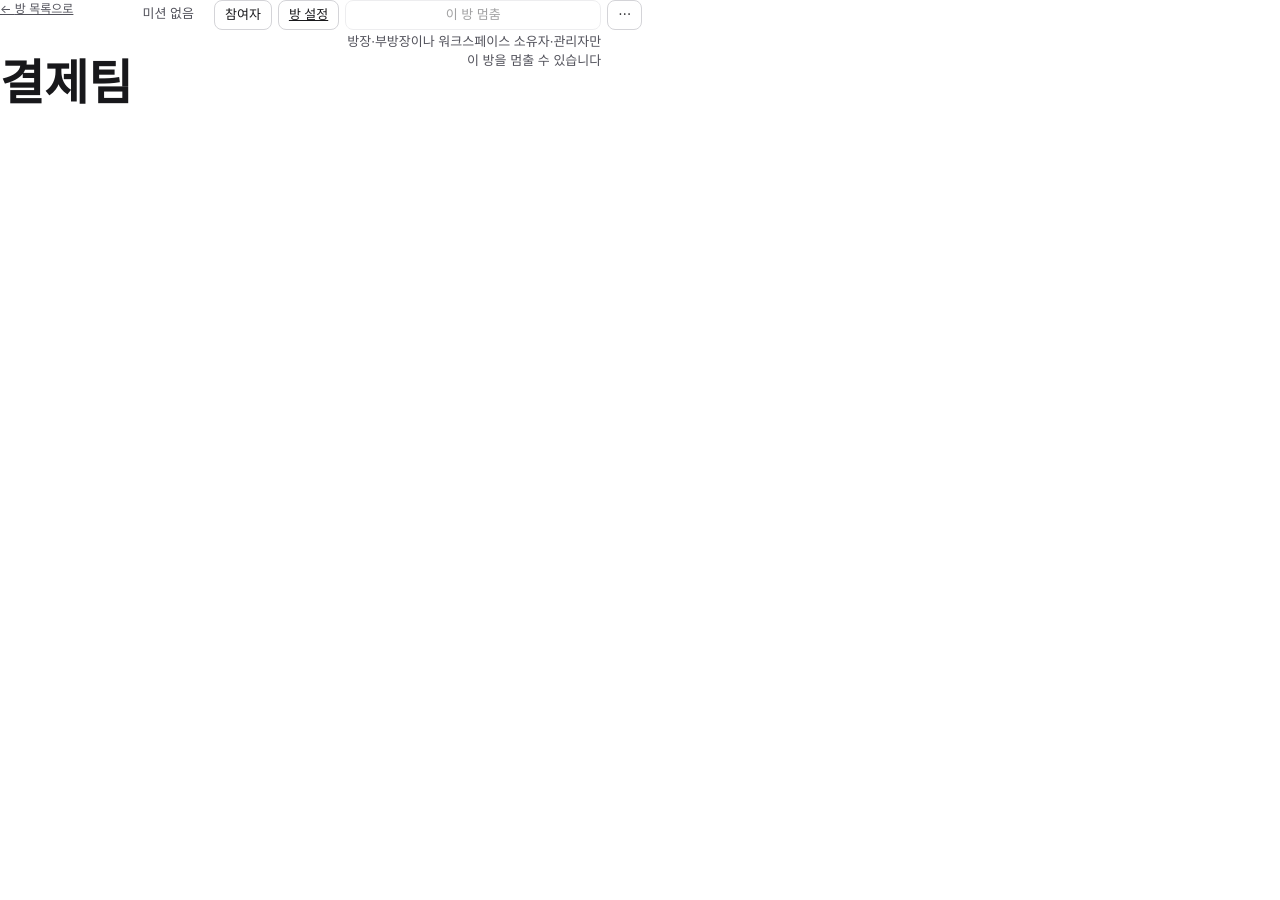
여기까지 정리 — 범위 셋(최근 7일 · 최근 30일 · 직접 고르기) › 직접 고르기를 고르면 범위가 없는 동안 「정리」가 비활성 + 사유, 「타임라인에서 고르기」는 다이얼로그를 닫고 집기 모드로
The width and height of the screenshot is (1280, 900).
Click the button with test id "room-more": (625, 15) [607, 0, 642, 30]
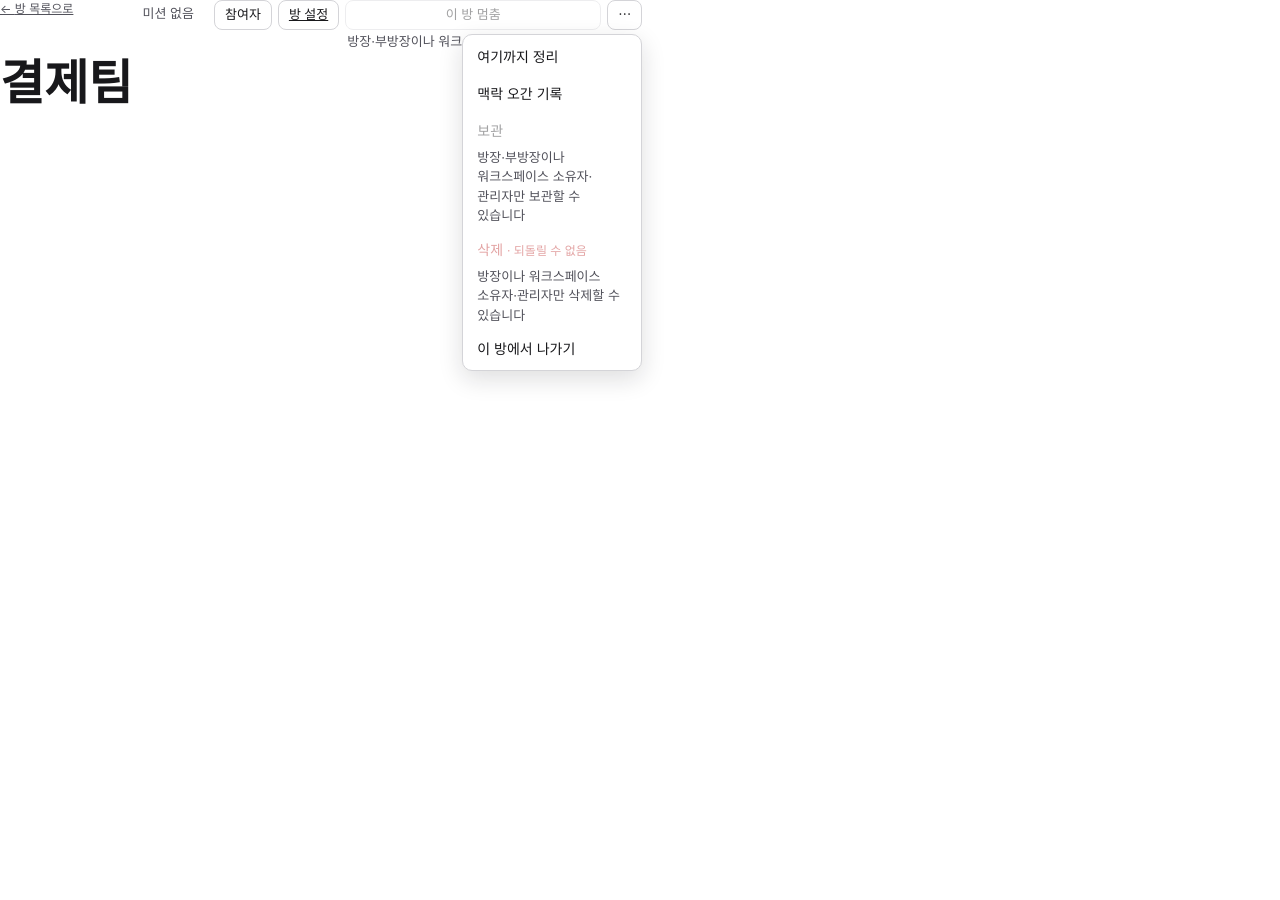
Click the menu item with test id "room-menu-summarize": (552, 56) [467, 38, 637, 74]
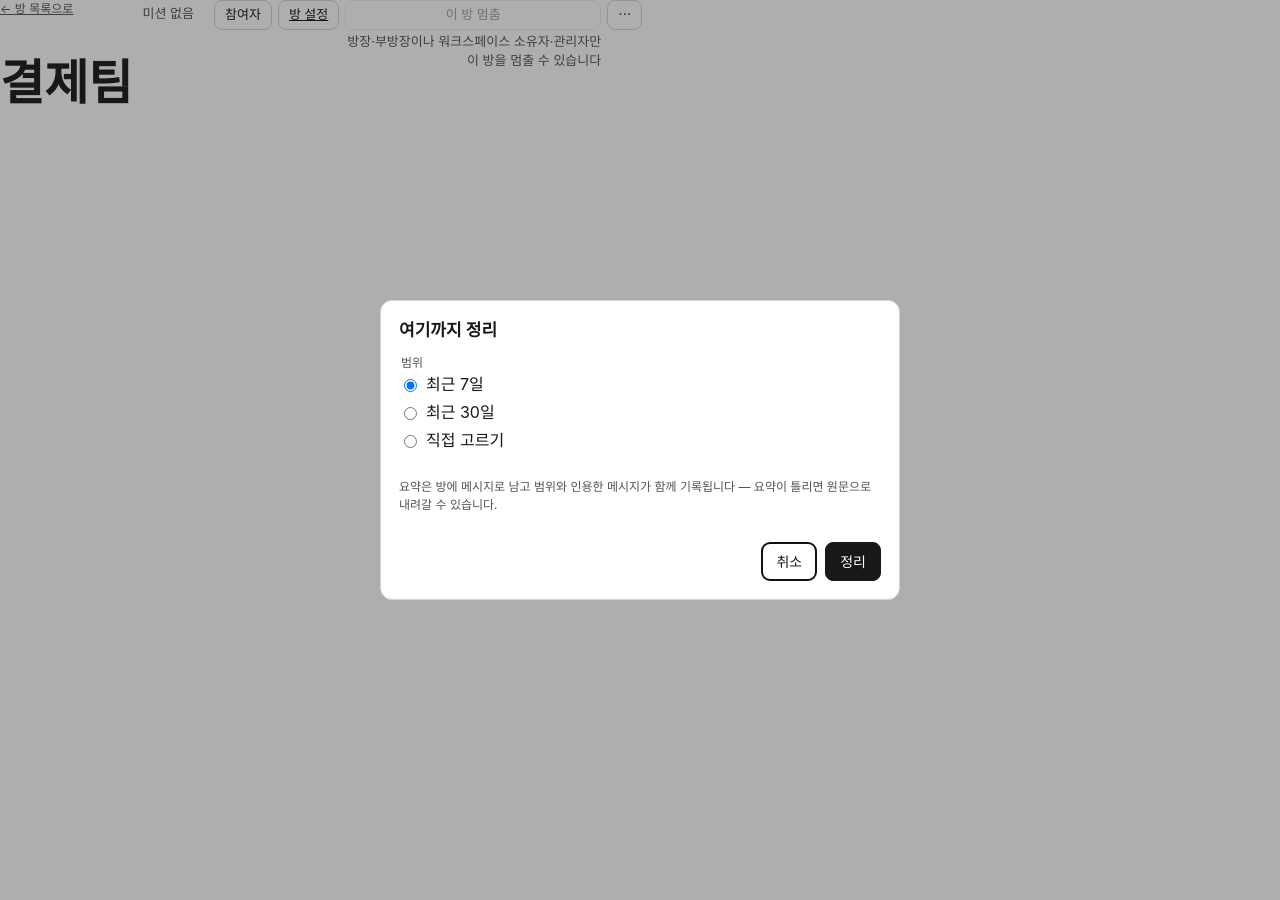
Click the radio button with test id "summarize-pick": (410, 442) [404, 435, 417, 448]
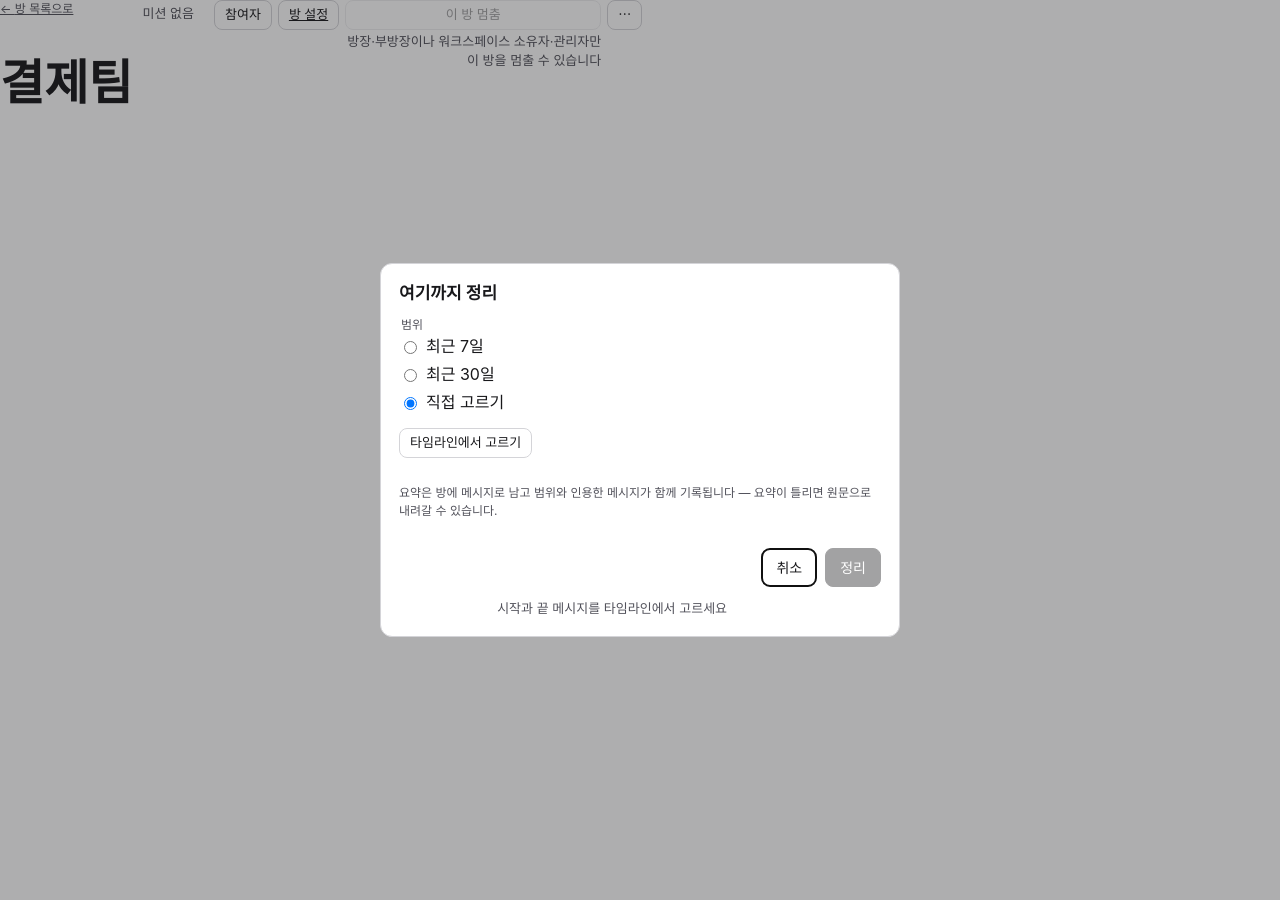
Expected: the button with test id "summarize-dialog-confirm" is disabled, [825, 548, 881, 587]
Expected: the text "시작과 끝 메시지를 타임라인에서 고르세요" is shown, [497, 600, 727, 616]
Click the button with test id "summarize-pick-start": (466, 443) [399, 428, 532, 458]
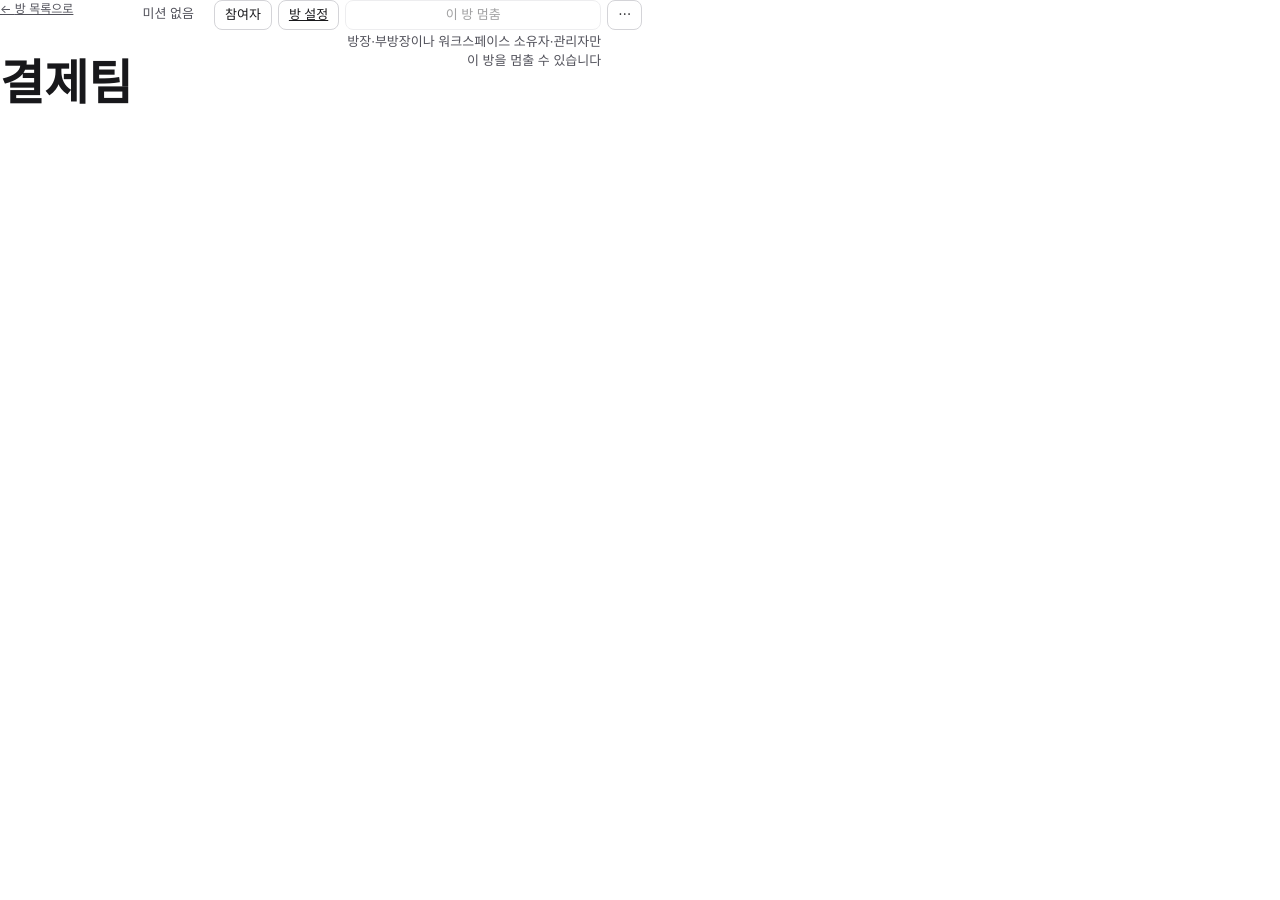
Expected: the dialog with test id "summarize-dialog" is gone
